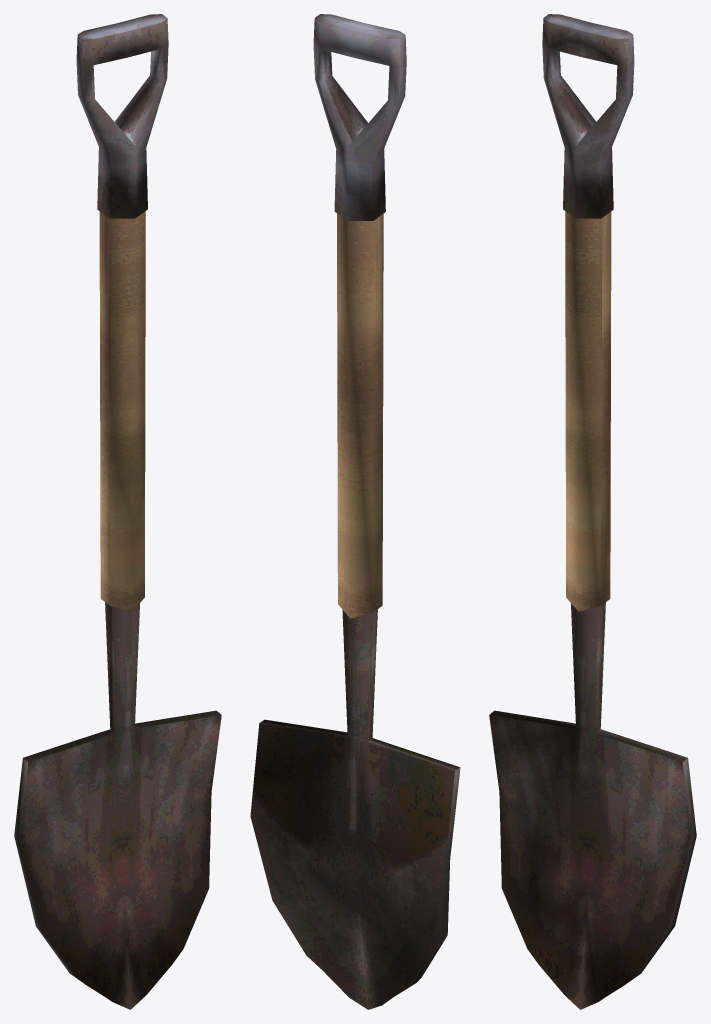
File: shovel-psx_1772343070205.glb
3 renders of one model, left to right at view 1: azimuth 30°, elevation 25°; view 2: azimuth 150°, elevation 25°; view 3: azimuth 330°, elevation 25°, orthographic.
Visible parts, largest first — view 1: Cube.001; view 2: Cube.001; view 3: Cube.001.
Boxes of the visible parts, left/top/right/bottom form: Cube.001: left=14, top=14, right=221, bottom=1009; Cube.001: left=250, top=14, right=460, bottom=1009; Cube.001: left=489, top=14, right=696, bottom=1009.
Bounding box in the file's own units: 0.2148 × 1.04 × 0.048.
1 material, 1 textured.
